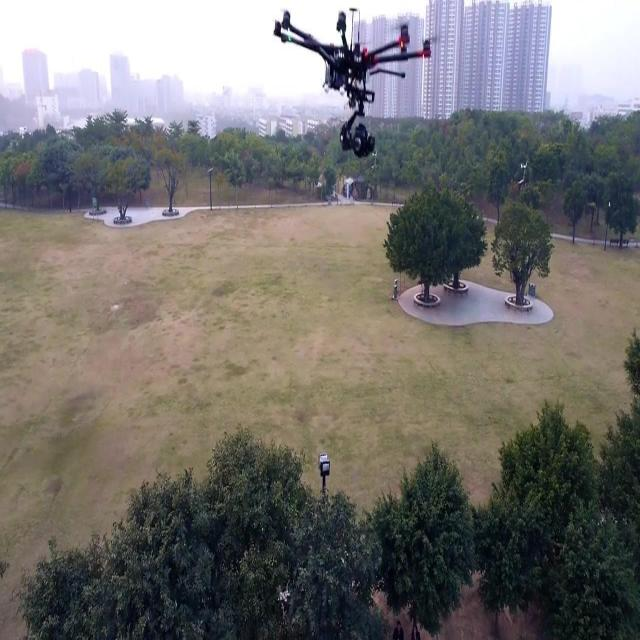UAV: (274, 7, 436, 158)
